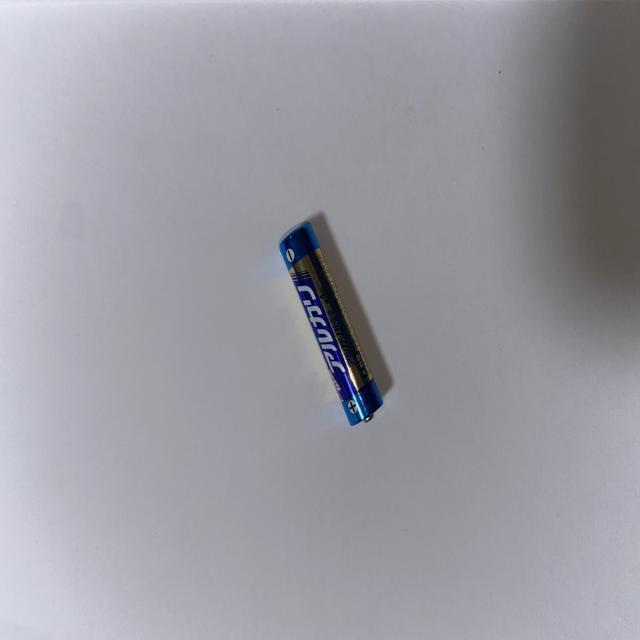Hazard: (277, 221, 384, 428)
